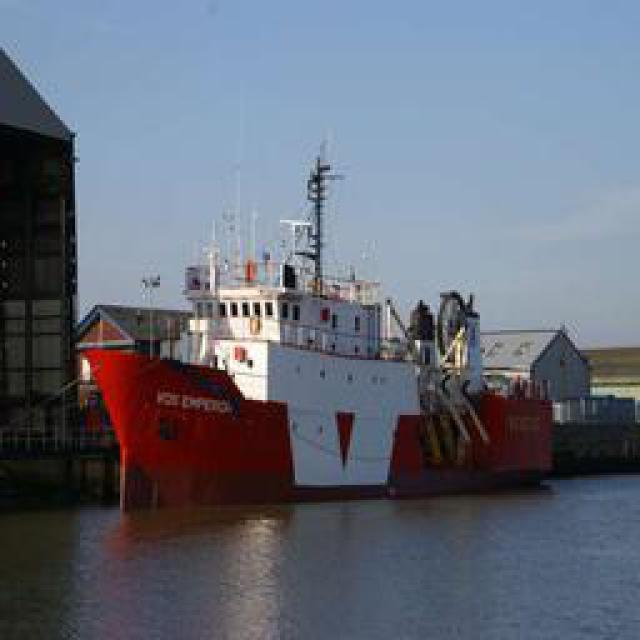Ship: (101, 129, 506, 502)
